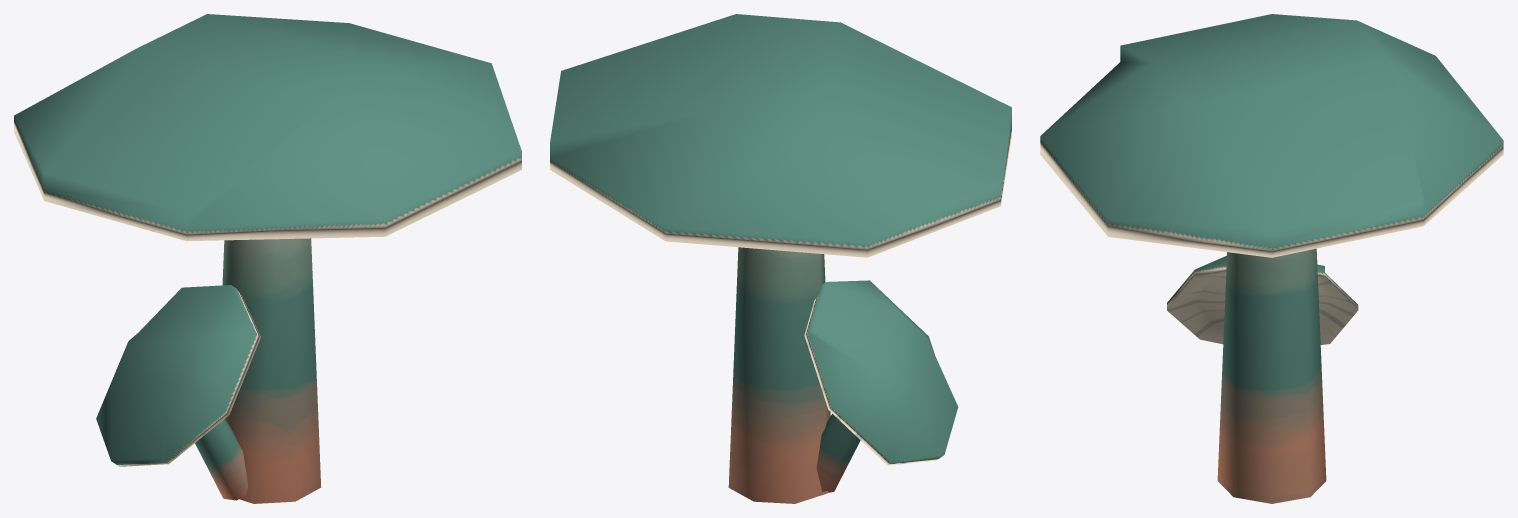
Rendered from Mushroom2.fbx.
3 views of the same model, side by side, from view 1: azimuth 30°, elevation 25°; view 2: azimuth 150°, elevation 25°; view 3: azimuth 270°, elevation 25° (orthographic).
Visible parts, largest first — view 1: Mushroom3:pasted__pCylinder2, Mushroom3:pasted__pCylinder1, Mushroom3:pasted__pCylinder4, Mushroom3:pasted__pCylinder3; view 2: Mushroom3:pasted__pCylinder2, Mushroom3:pasted__pCylinder1, Mushroom3:pasted__pCylinder4, Mushroom3:pasted__pCylinder3; view 3: Mushroom3:pasted__pCylinder2, Mushroom3:pasted__pCylinder1, Mushroom3:pasted__pCylinder4.
Boxes of the visible parts, <box> form: Mushroom3:pasted__pCylinder2: <box>14,14,521,241</box>; Mushroom3:pasted__pCylinder1: <box>222,238,321,503</box>; Mushroom3:pasted__pCylinder4: <box>96,285,260,466</box>; Mushroom3:pasted__pCylinder3: <box>195,419,248,500</box>; Mushroom3:pasted__pCylinder2: <box>550,14,1011,257</box>; Mushroom3:pasted__pCylinder1: <box>728,247,830,503</box>; Mushroom3:pasted__pCylinder4: <box>804,280,958,465</box>; Mushroom3:pasted__pCylinder3: <box>816,414,860,492</box>; Mushroom3:pasted__pCylinder2: <box>1040,14,1503,257</box>; Mushroom3:pasted__pCylinder1: <box>1217,248,1326,503</box>; Mushroom3:pasted__pCylinder4: <box>1167,255,1358,344</box>.
Size of the model in its own units: 1.84 by 1.67 by 1.67.
1 material, 1 textured.
